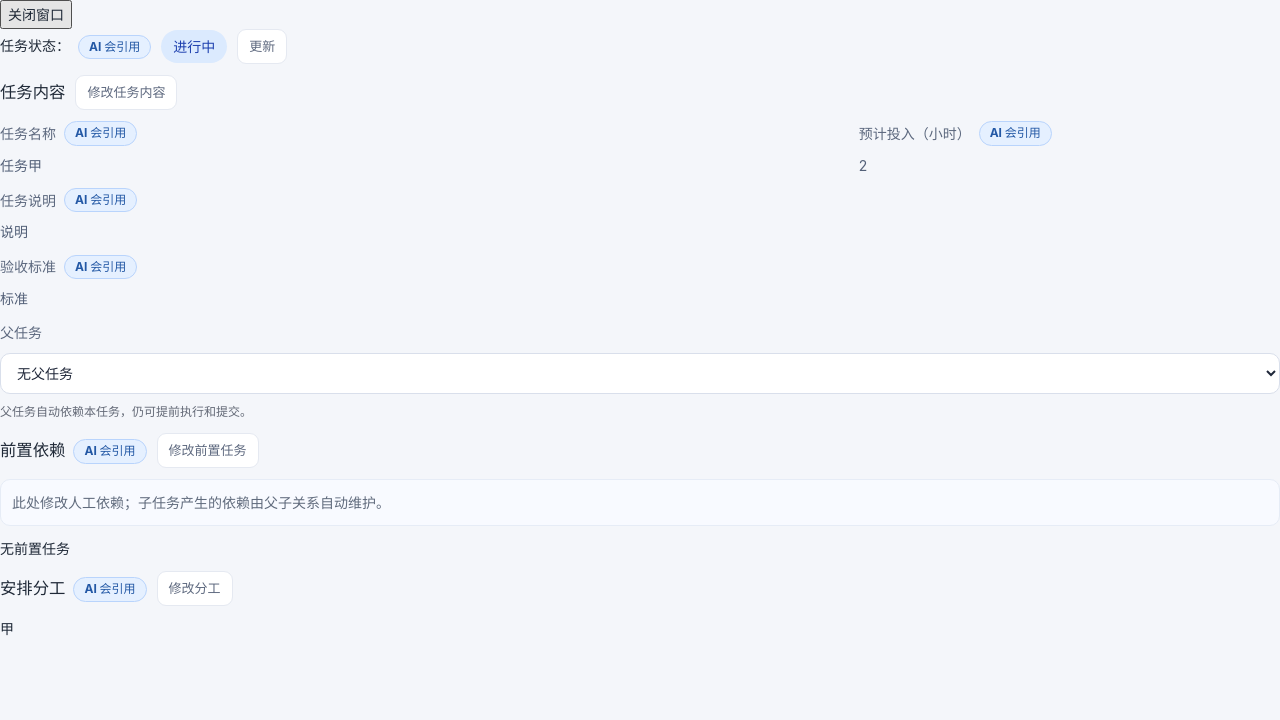
Test case: task settings autosave › stops for a same-field conflict and supports choosing server content
The image size is (1280, 720).
Step 1. Click the button "修改任务内容" → (126, 92), box top-left (75, 75), bottom-right (177, 110)
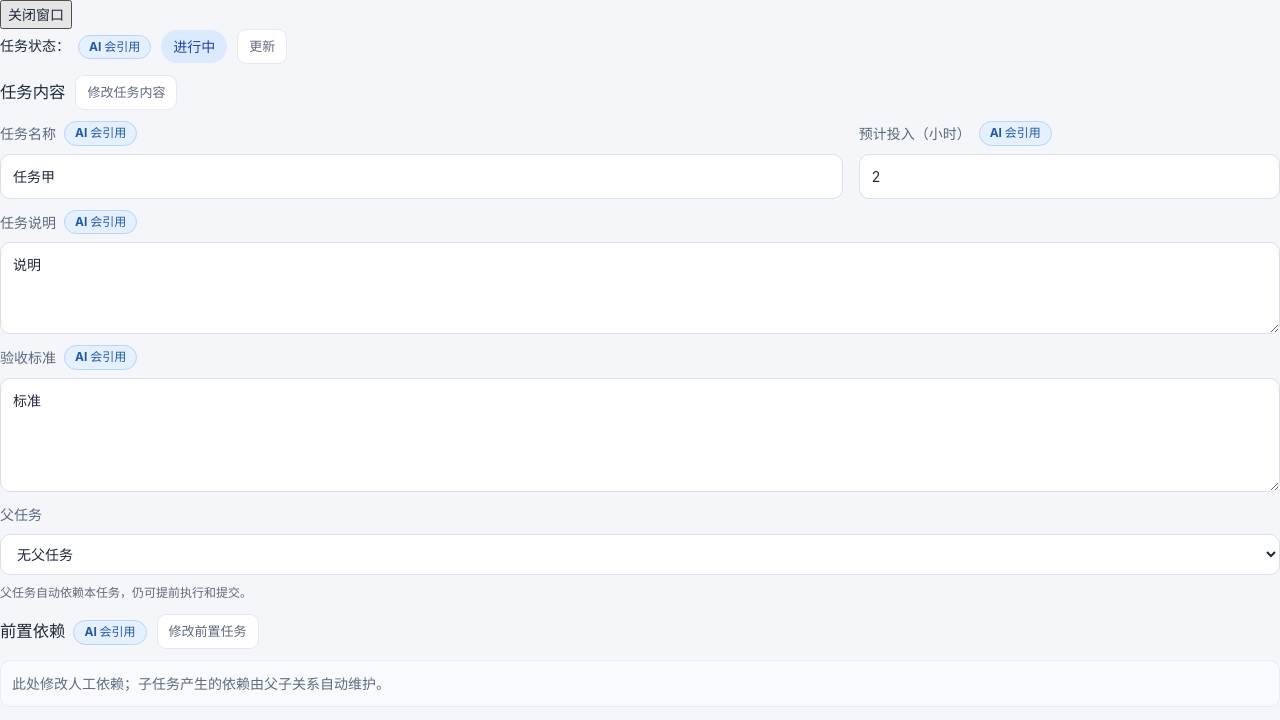
Step 2. Replace the text in the field labelled "任务名称" with "我的名称" → (421, 176), box top-left (0, 154), bottom-right (843, 199)
Wait 3000 ms
(page scrolled)
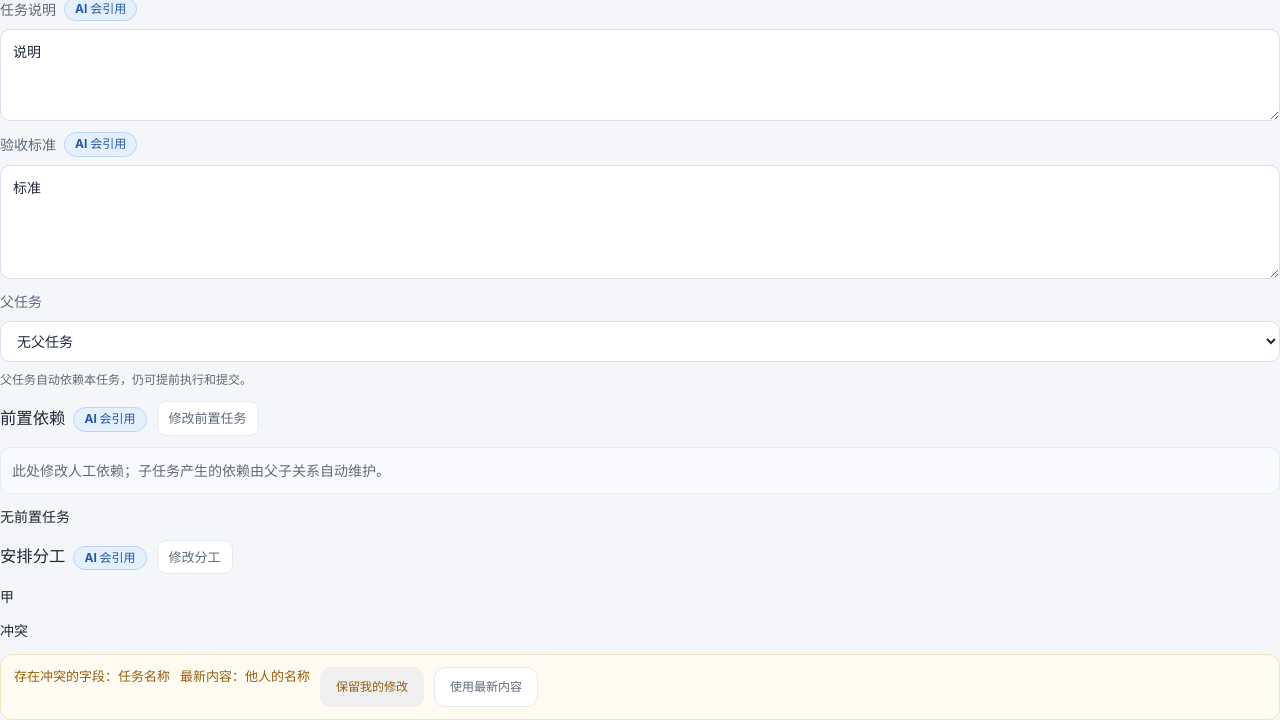
Step 3. Click the button "使用最新内容" → (486, 687), box top-left (434, 667), bottom-right (538, 707)
Wait 3000 ms
(page scrolled)
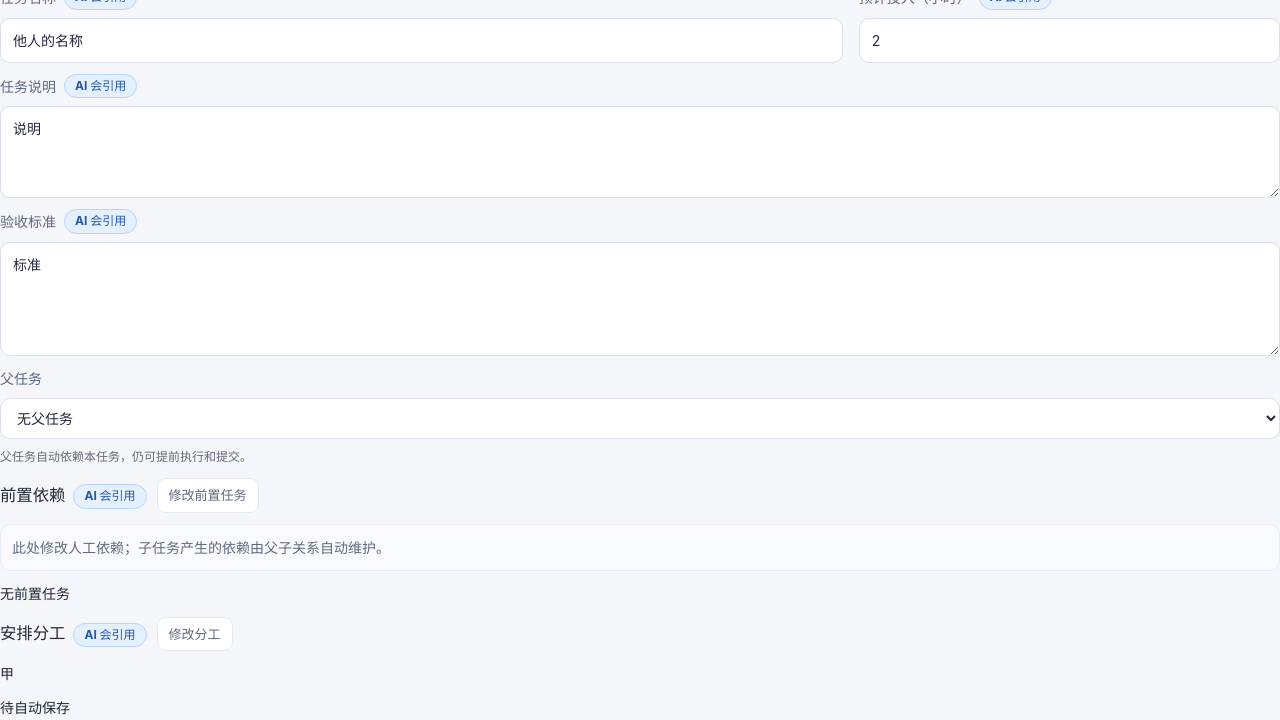
Check: the field labelled "任务名称" holds "他人的名称", box top-left (0, 18), bottom-right (843, 63)
